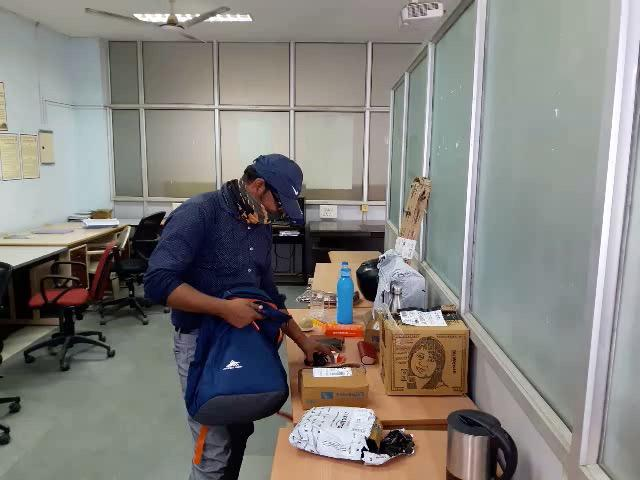shoplifting: (172, 282, 335, 429)
